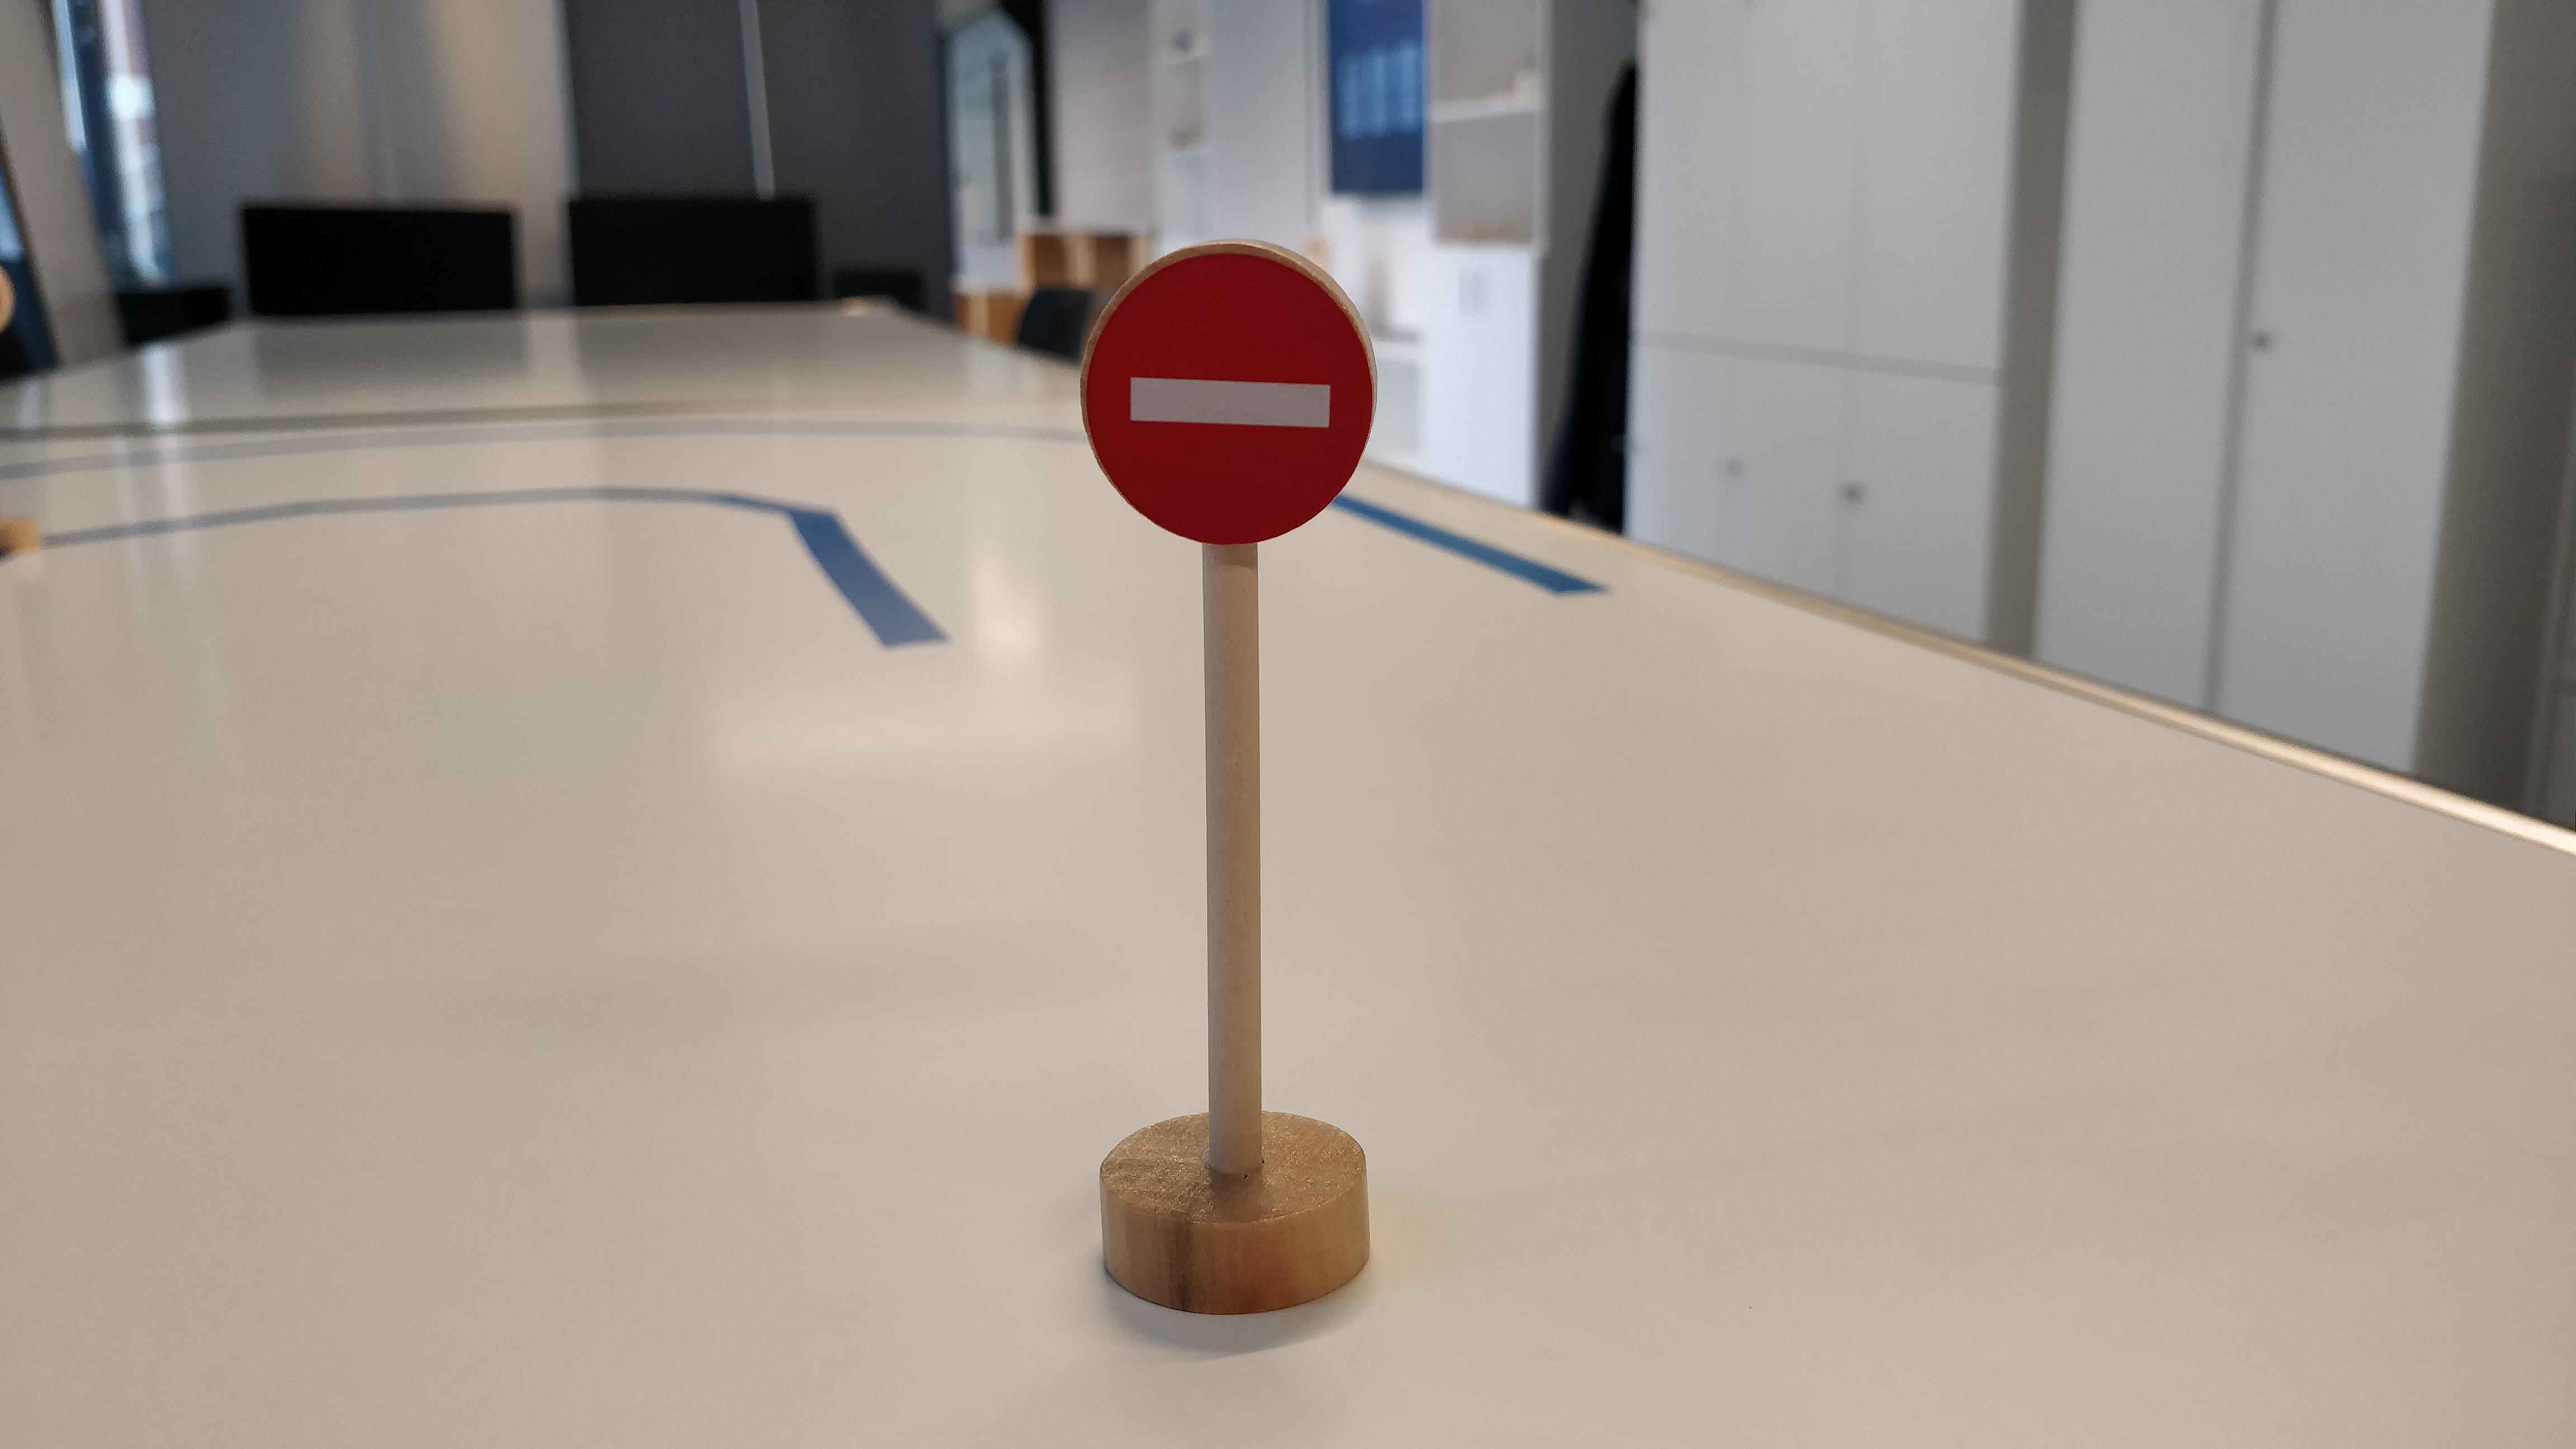Prohibition Sign: (1077, 241, 1384, 553)
